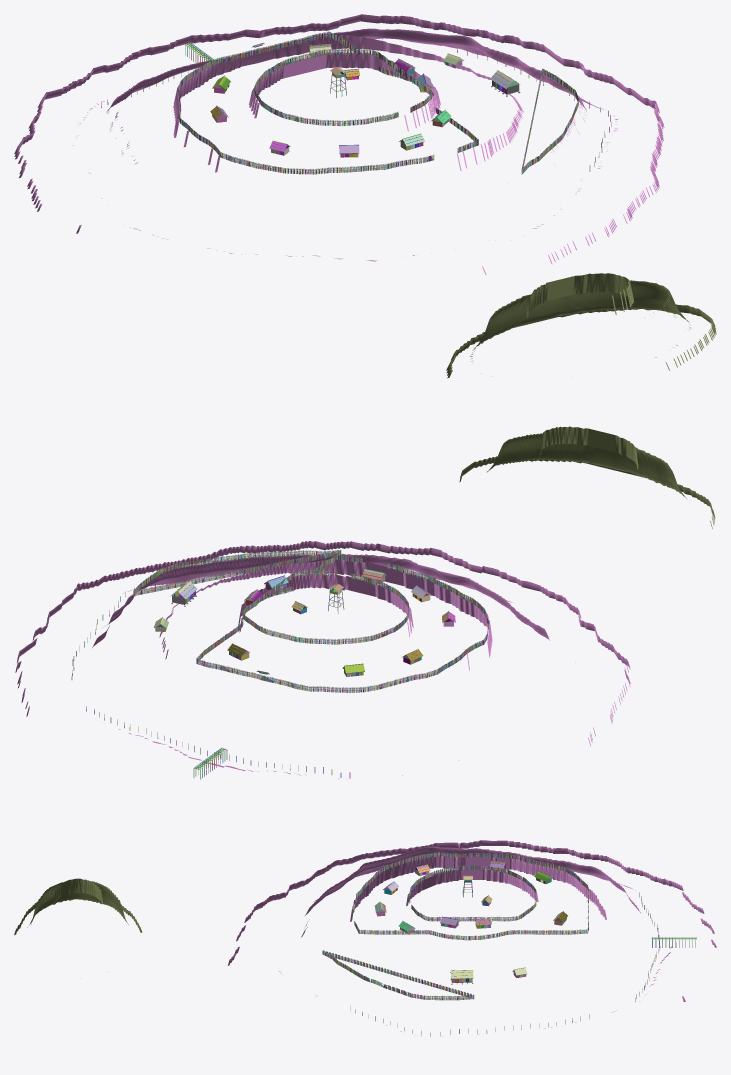
The model's file is castle.glb.
3 views of the same model, one above another, from view 1: azimuth 30°, elevation 25°; view 2: azimuth 150°, elevation 25°; view 3: azimuth 270°, elevation 25° (orthographic). The views are drawn at different scales.
Visible parts, largest first — view 1: castle_ground, castle; view 2: castle_ground, castle; view 3: castle_ground, castle.
Boxes of the visible parts, <box> form: castle_ground: <box>14,14,716,378</box>; castle: <box>101,31,611,174</box>; castle_ground: <box>15,426,715,779</box>; castle: <box>71,550,488,779</box>; castle_ground: <box>14,840,716,1036</box>; castle: <box>322,852,696,1036</box>.
Bounding box in the file's own units: 245 × 39.1 × 339.
